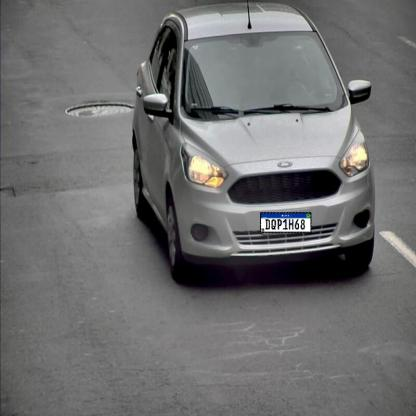PlacaM: (260, 212, 311, 233)
